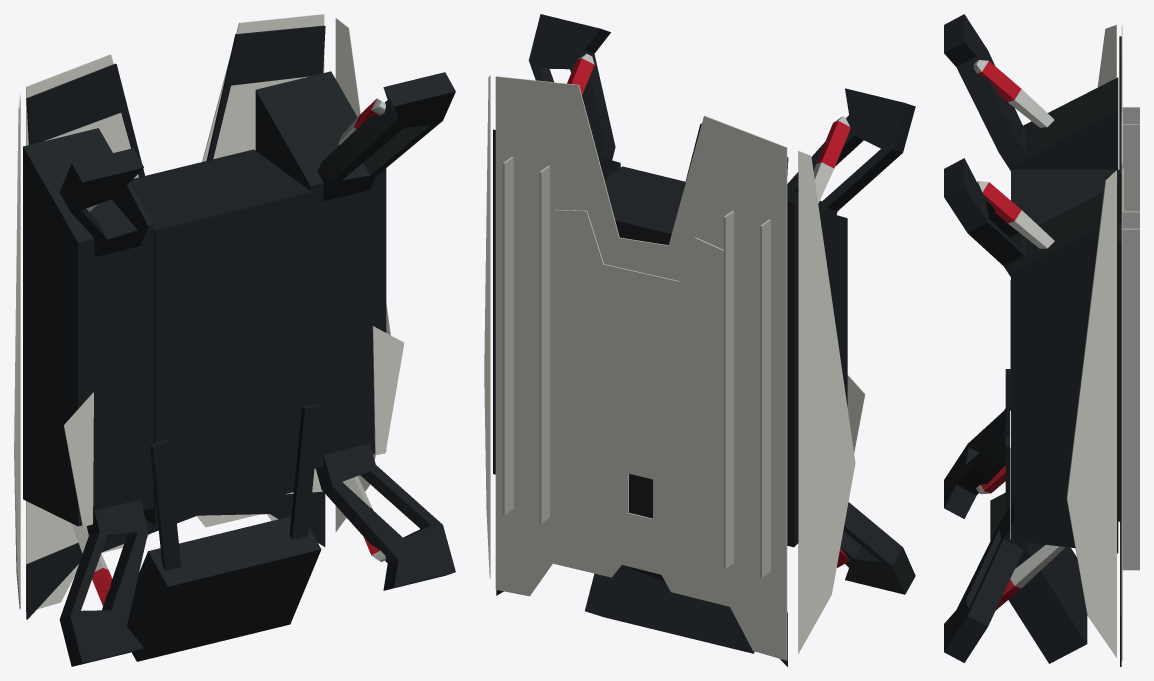
The model's file is body.dae.
3 views of the same model, side by side, from view 1: azimuth 30°, elevation 25°; view 2: azimuth 150°, elevation 25°; view 3: azimuth 270°, elevation 25° (orthographic). The views are drawn at different scales.
Visible parts, largest first — view 1: body; view 2: body; view 3: body.
Boxes of the visible parts, x1,y1,x2,y2 form: body: (14, 14, 455, 666); body: (484, 14, 915, 666); body: (944, 14, 1139, 666).
Size of the model in its own units: 0.3868 by 0.1822 by 0.5602.
